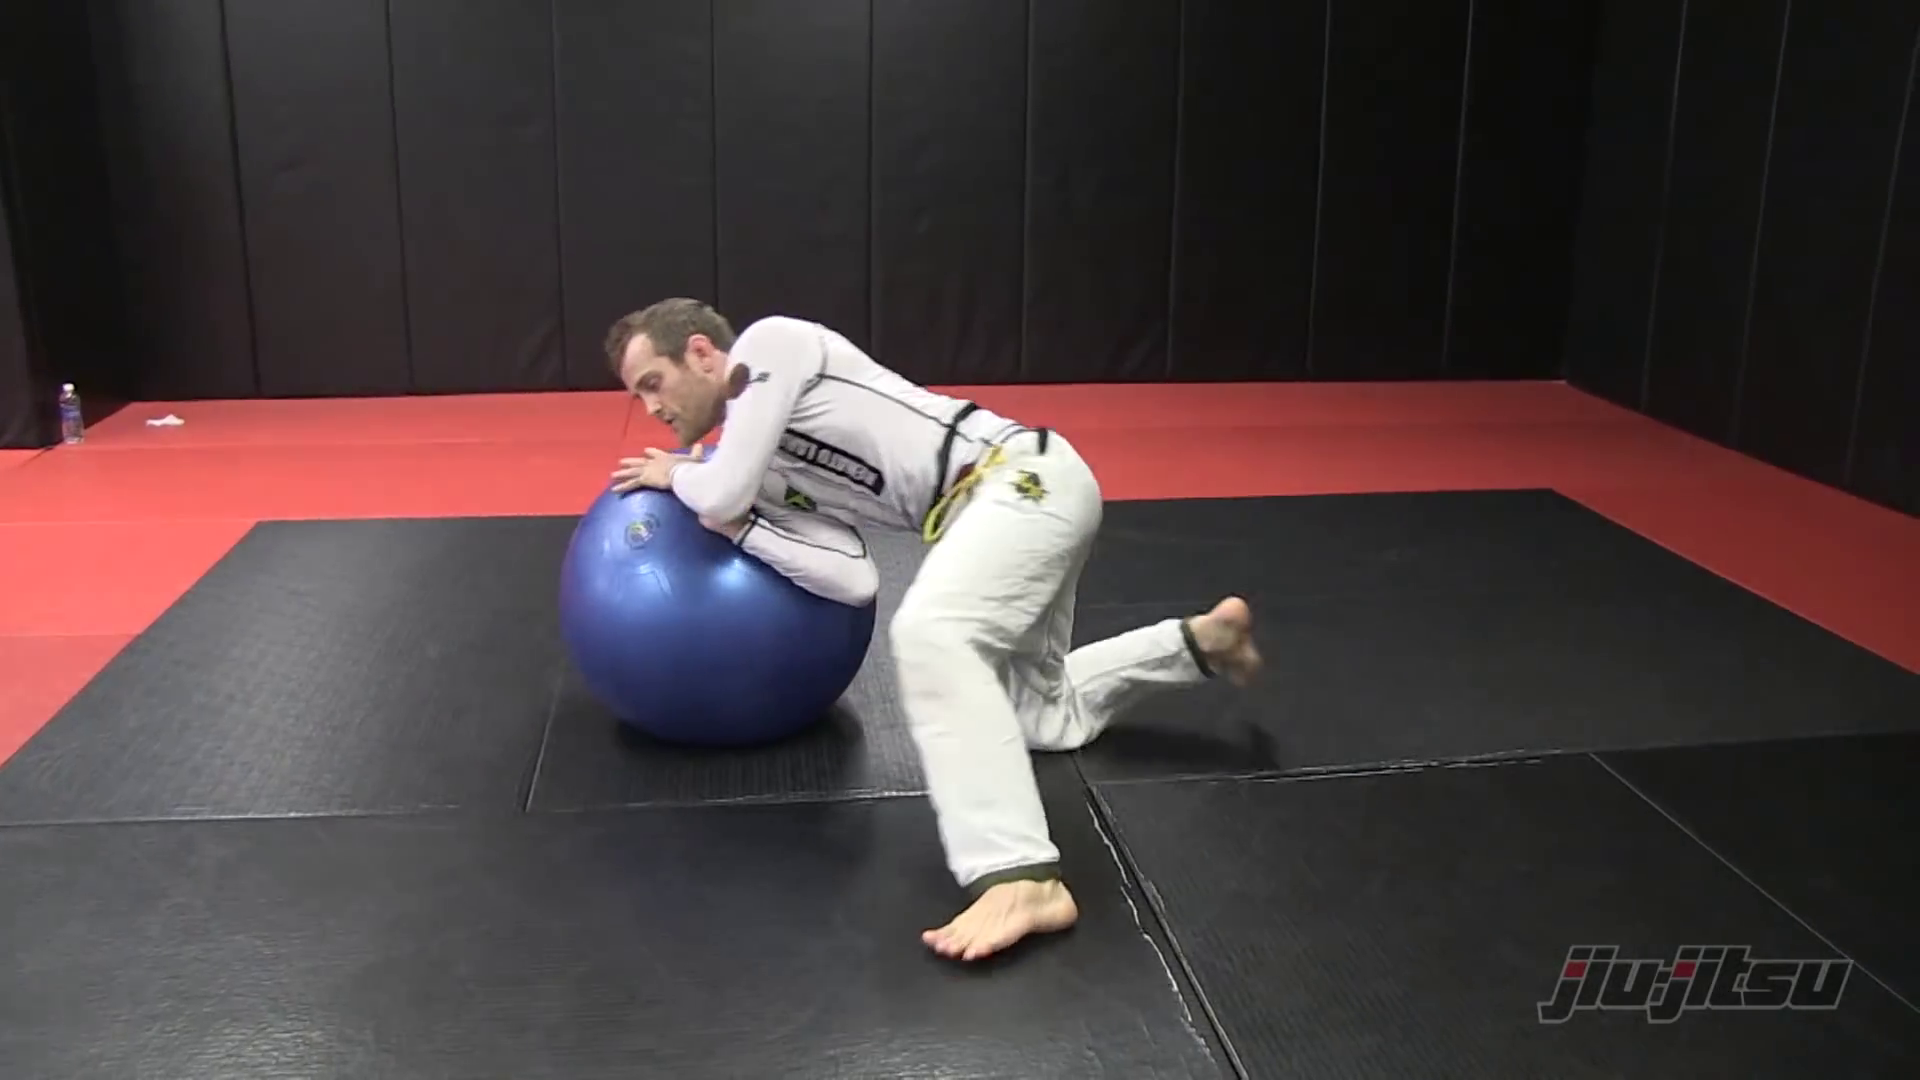yogaball: (538, 460, 909, 781)
